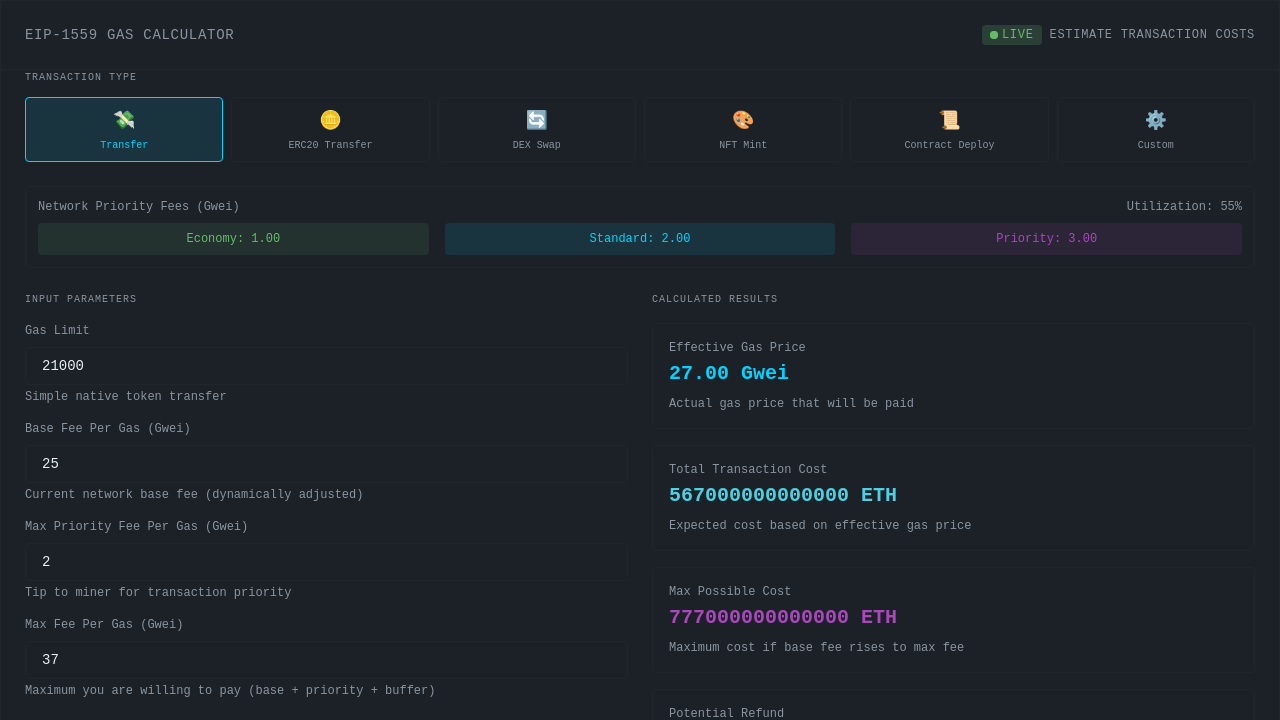
Test case: GasCalculator › User Interactions › switches gas limit when selecting DEX Swap preset
The image size is (1280, 720).
Click the button titled "Decentralized exchange swap".
click(537, 130)  # box [438,97,636,162]
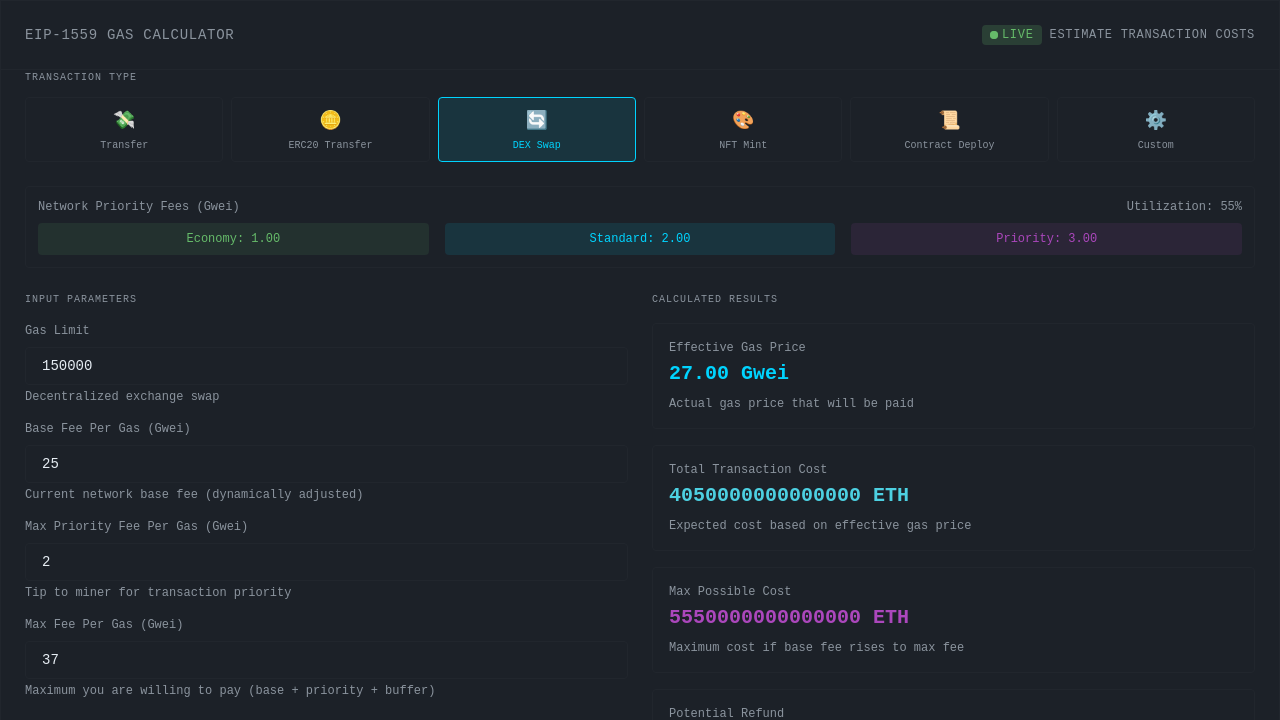
Check: the number field labelled "Gas Limit" holds "150000", box [25,347,628,385]
